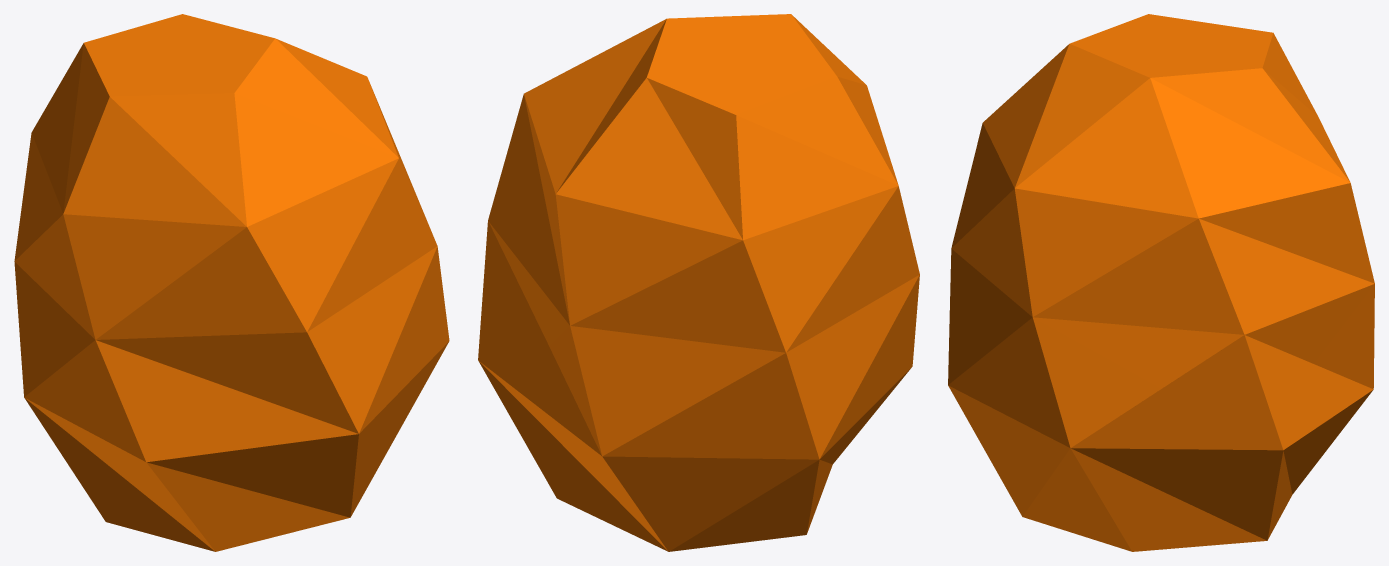
Rendered from Prop_Fruit_Mango_01.fbx.
3 renders of one model, left to right at view 1: azimuth 30°, elevation 25°; view 2: azimuth 150°, elevation 25°; view 3: azimuth 270°, elevation 25°, orthographic. The views are drawn at different scales.
Parts seen in each view (by area): view 1: Prop_Fruit_Mango_01; view 2: Prop_Fruit_Mango_01; view 3: Prop_Fruit_Mango_01.
Part boxes in pixels (x1,y1,x2,y2): Prop_Fruit_Mango_01: (14, 14, 449, 551); Prop_Fruit_Mango_01: (478, 14, 919, 551); Prop_Fruit_Mango_01: (948, 14, 1374, 551).
Size of the model in its own units: 140 by 173 by 147.
